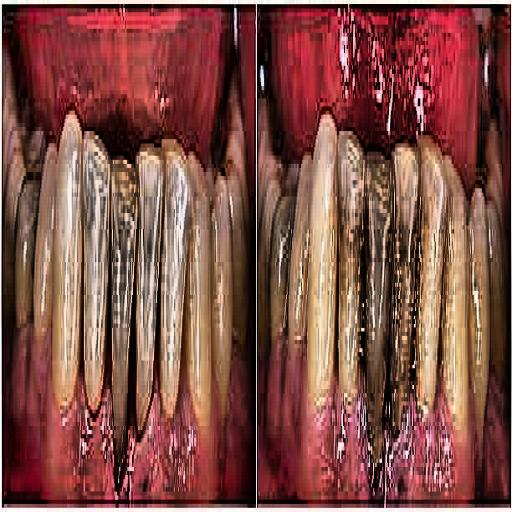Calculus: (10, 82, 248, 512), (258, 95, 512, 473)
